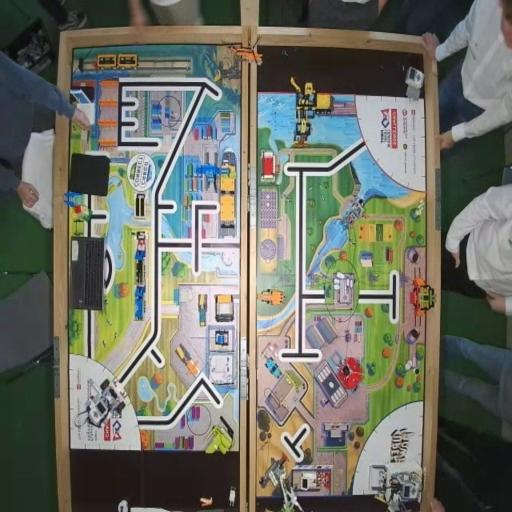lego_robot: (368, 464, 423, 512), (86, 377, 126, 430)
